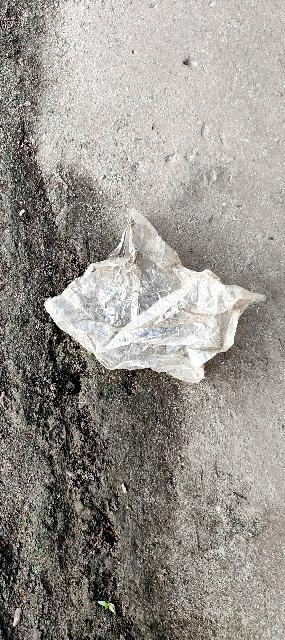polythene: (18, 183, 279, 441)
